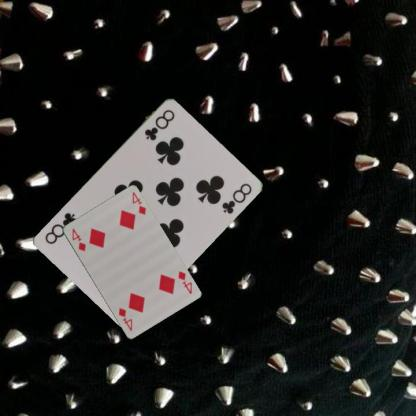4d: (68, 225, 86, 252), (175, 268, 193, 295)
8c: (142, 106, 176, 142)
